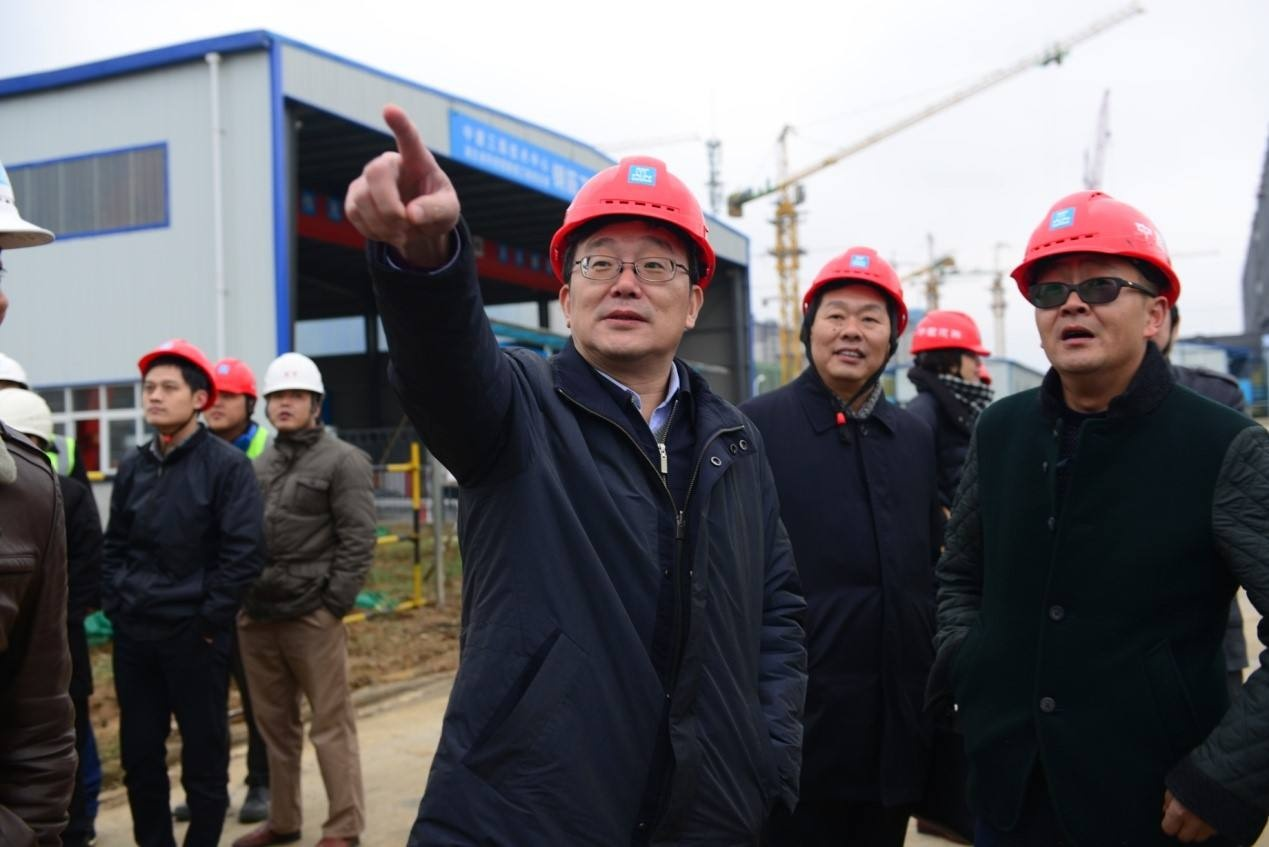red: (538, 147, 722, 386), (1002, 180, 1189, 399), (797, 239, 911, 393), (908, 295, 990, 400), (130, 334, 208, 432), (198, 355, 255, 434)
white: (254, 345, 336, 446)
